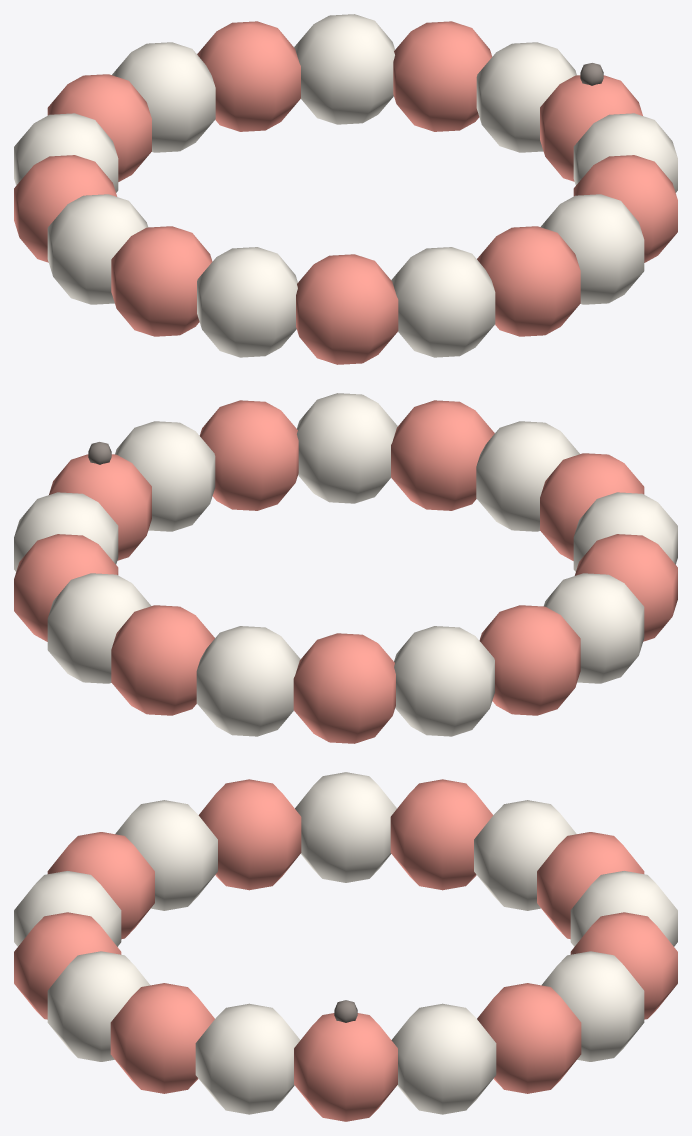
Rendered from outfit_floatie.glb.
3 renders of one model, top to bottom at view 1: azimuth 30°, elevation 25°; view 2: azimuth 150°, elevation 25°; view 3: azimuth 270°, elevation 25°, orthographic.
Visible parts, largest first — view 1: outfit_floatie; view 2: outfit_floatie; view 3: outfit_floatie.
Part boxes in pixels (x1,y1,x2,y2): outfit_floatie: (14,14,677,364); outfit_floatie: (14,393,677,743); outfit_floatie: (14,772,677,1121).
Size of the model in its own units: 49.99 by 9.6 by 49.35.
